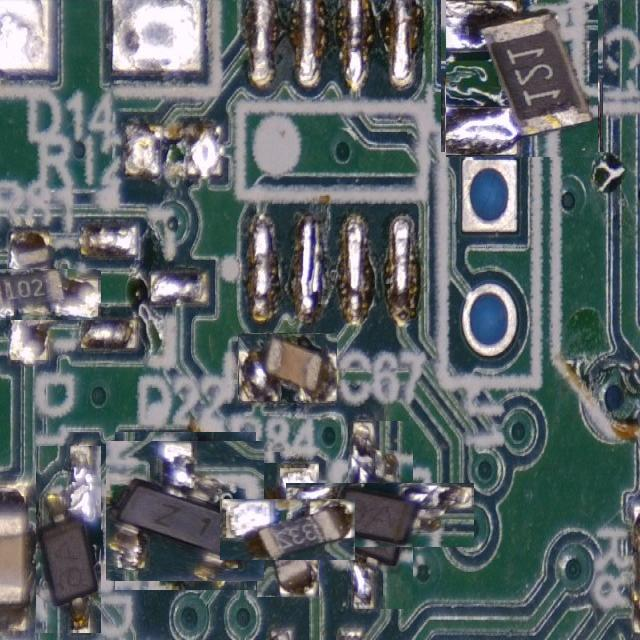Incorrect_installation: (446, 0, 597, 157), (107, 441, 263, 581), (36, 447, 101, 631), (287, 483, 473, 547), (222, 499, 355, 559), (238, 333, 337, 403), (0, 269, 101, 319)
